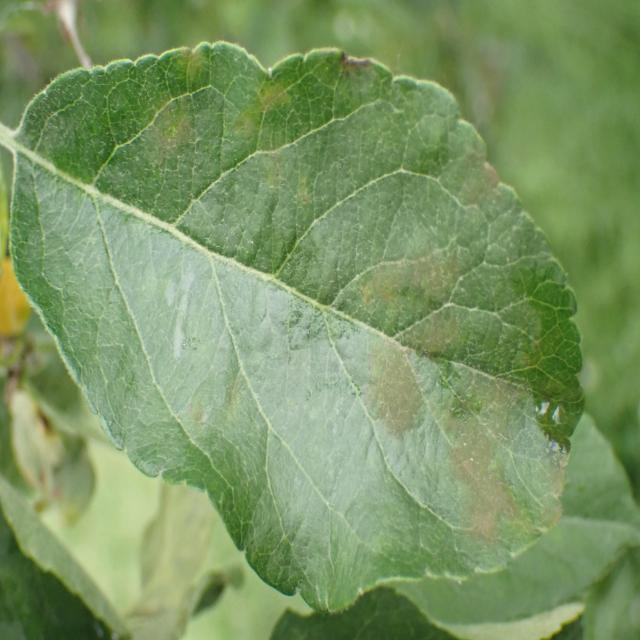scab: (83, 26, 584, 576)
